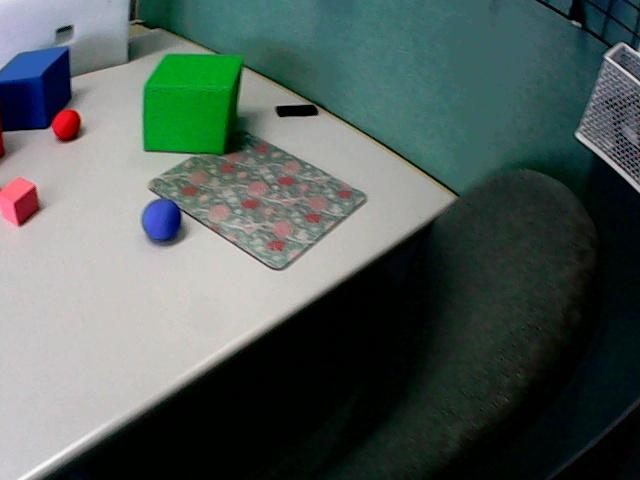blue_block: (0, 47, 70, 130)
red_block: (0, 177, 39, 225), (0, 105, 4, 156)
